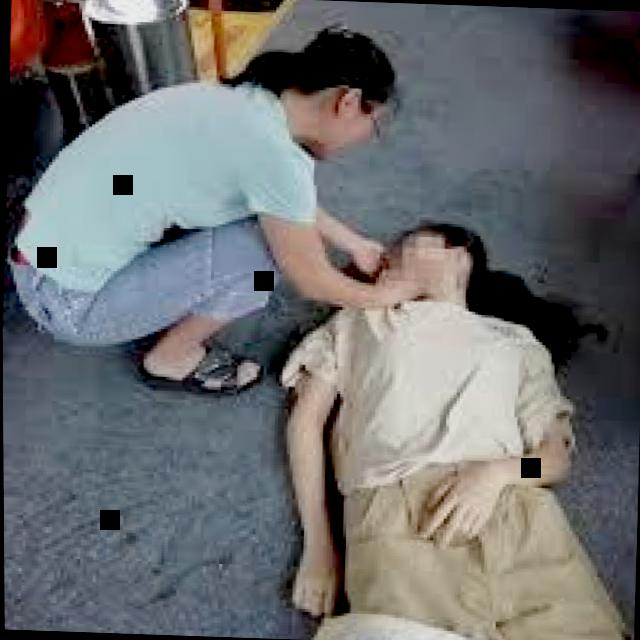Fall-Detected: (226, 188, 640, 640)
